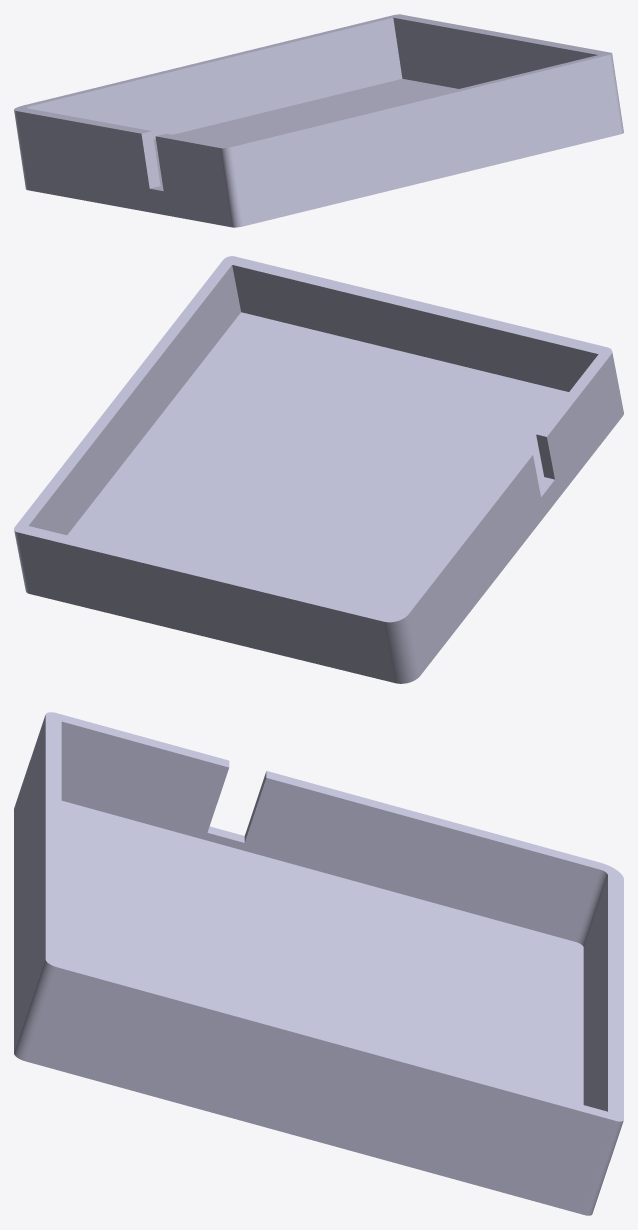
File: arducamcover.dae
3 views of the same model, one above another, from view 1: azimuth 30°, elevation 25°; view 2: azimuth 150°, elevation 25°; view 3: azimuth 270°, elevation 25° (orthographic). The views are drawn at different scales.
Parts seen in each view (by area): view 1: node0; view 2: node0; view 3: node0.
Boxes of the visible parts, <box> form: node0: <box>14,14,623,227</box>; node0: <box>14,256,623,683</box>; node0: <box>14,712,623,1215</box>.
Size of the model in its own units: 0.036 by 0.0365 by 0.0167.
